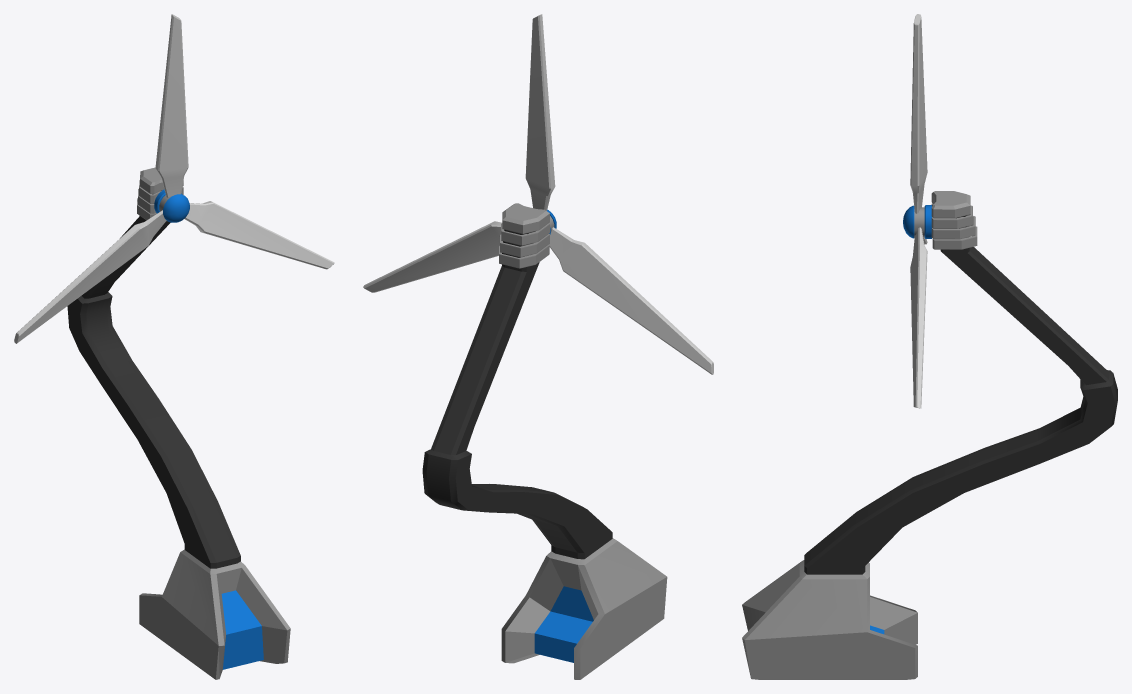
The model's file is Windmill.FBX.
The picture shows the model from 3 angles, left to right: view 1: azimuth 30°, elevation 25°; view 2: azimuth 150°, elevation 25°; view 3: azimuth 270°, elevation 25°; orthographic projection. The views are drawn at different scales.
Visible parts, largest first — view 1: WindmillBase, WindmillBlades; view 2: WindmillBase, WindmillBlades; view 3: WindmillBase, WindmillBlades.
Boxes of the visible parts, <box> form: WindmillBase: <box>67,167,290,679</box>; WindmillBlades: <box>14,14,334,343</box>; WindmillBase: <box>422,203,667,679</box>; WindmillBlades: <box>363,14,713,374</box>; WindmillBase: <box>742,191,1117,679</box>; WindmillBlades: <box>910,14,927,408</box>.
Bounding box in the file's own units: 311 × 562 × 295.
